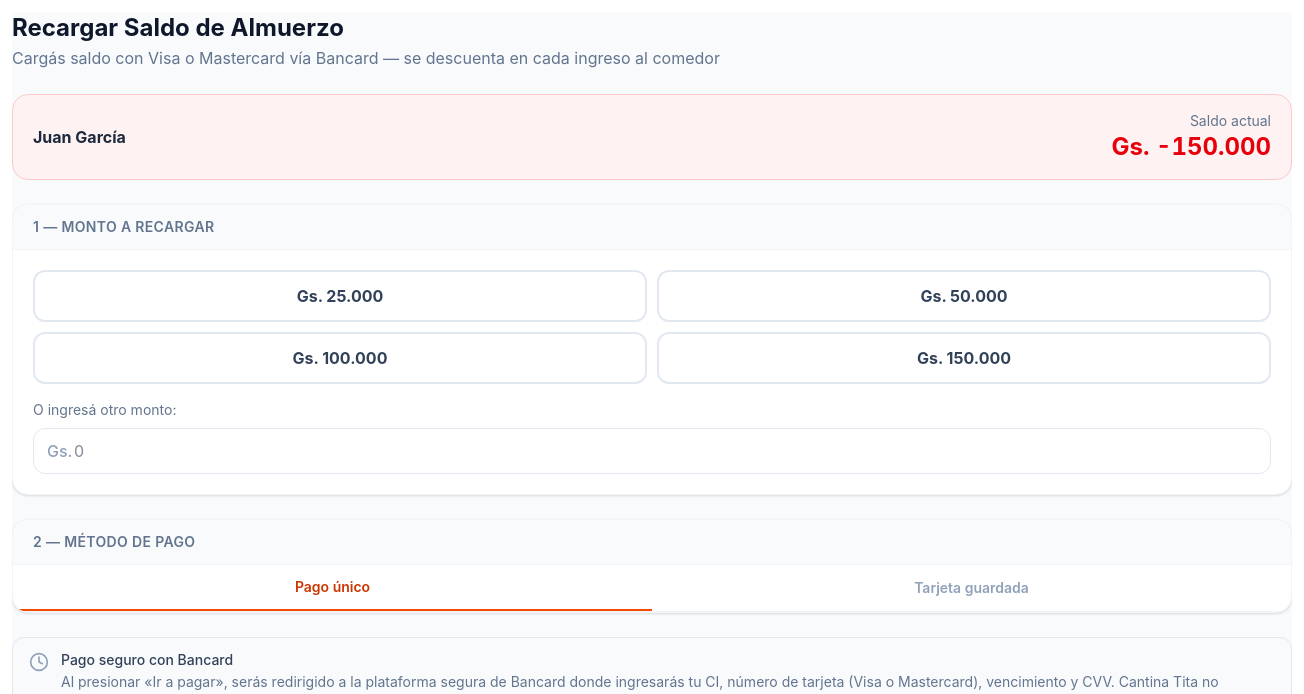
Scenario: PagarAlmuerzo — tarjeta guardada › pestaña "Tarjeta guardada" muestra las tarjetas guardadas del cliente
expect the text "Juan García" is shown: met, box top-left (33, 125), bottom-right (126, 149)
Click the button "Gs. 50.000" at {"x": 964, "y": 296}, box top-left (657, 270), bottom-right (1271, 322)
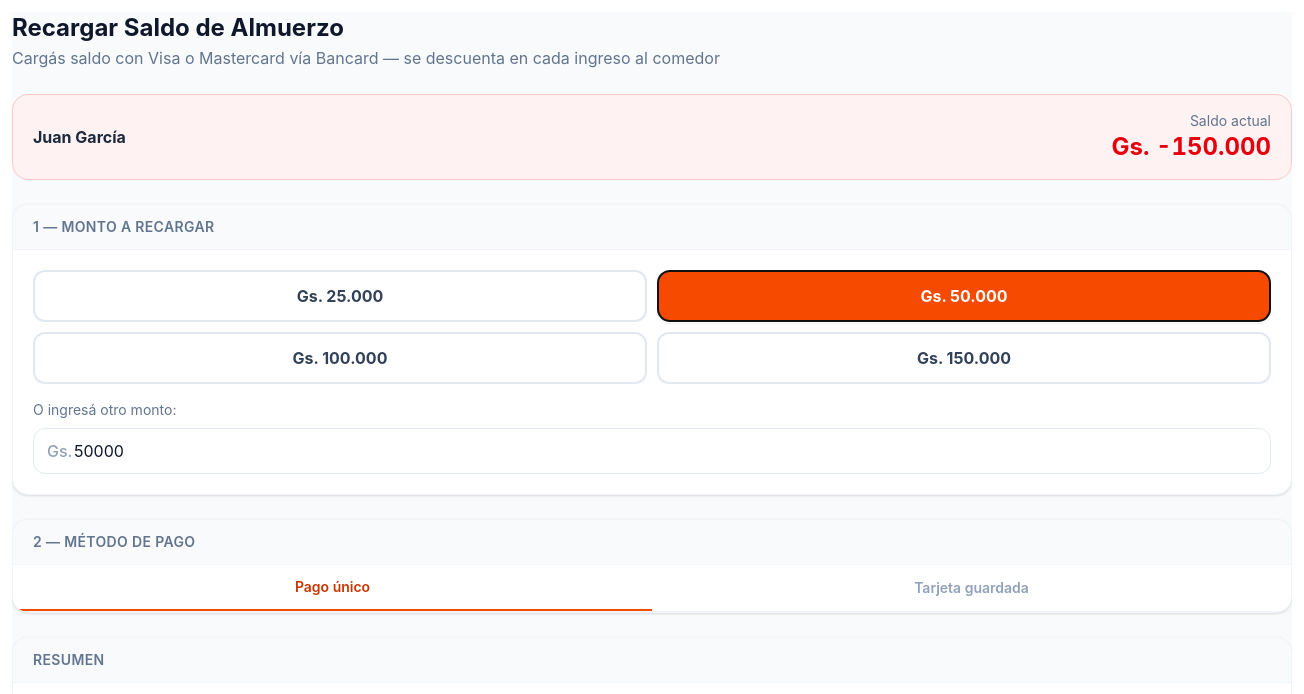
Click the button "Tarjeta guardada" at {"x": 972, "y": 588}, box top-left (652, 565), bottom-right (1291, 611)
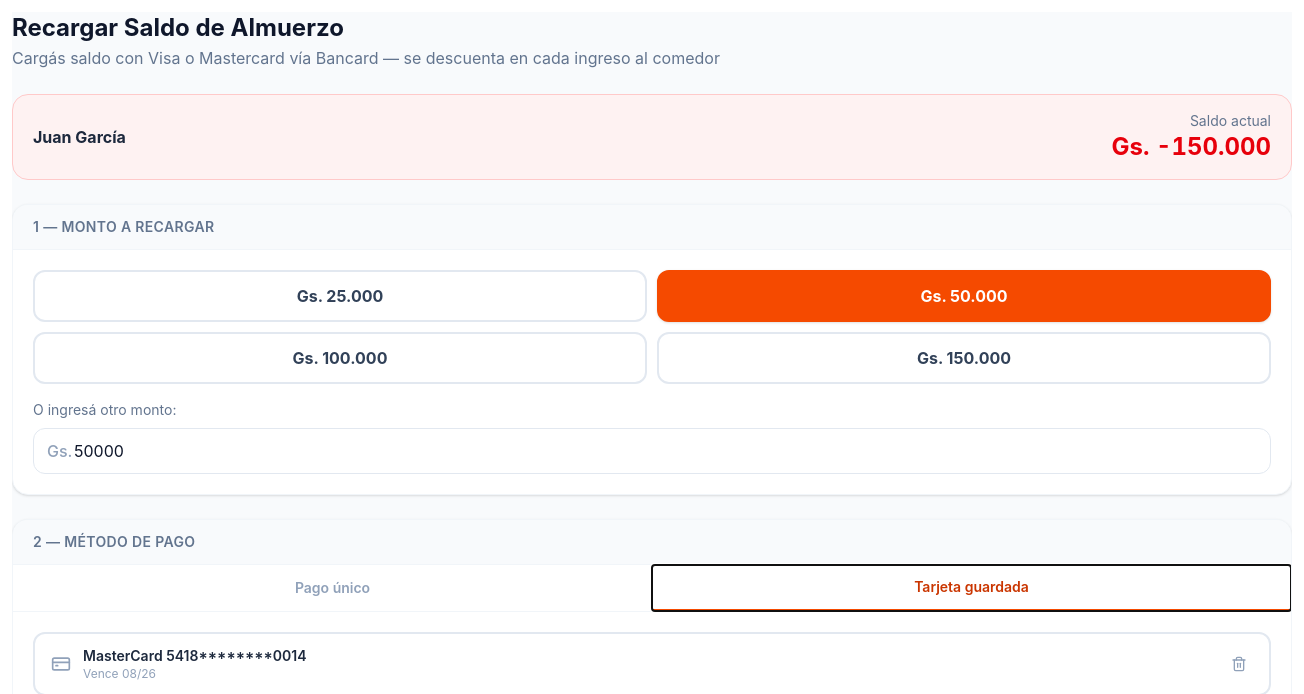
expect the text "MasterCard 5418********0014" is shown: met, box top-left (83, 646), bottom-right (307, 666)
